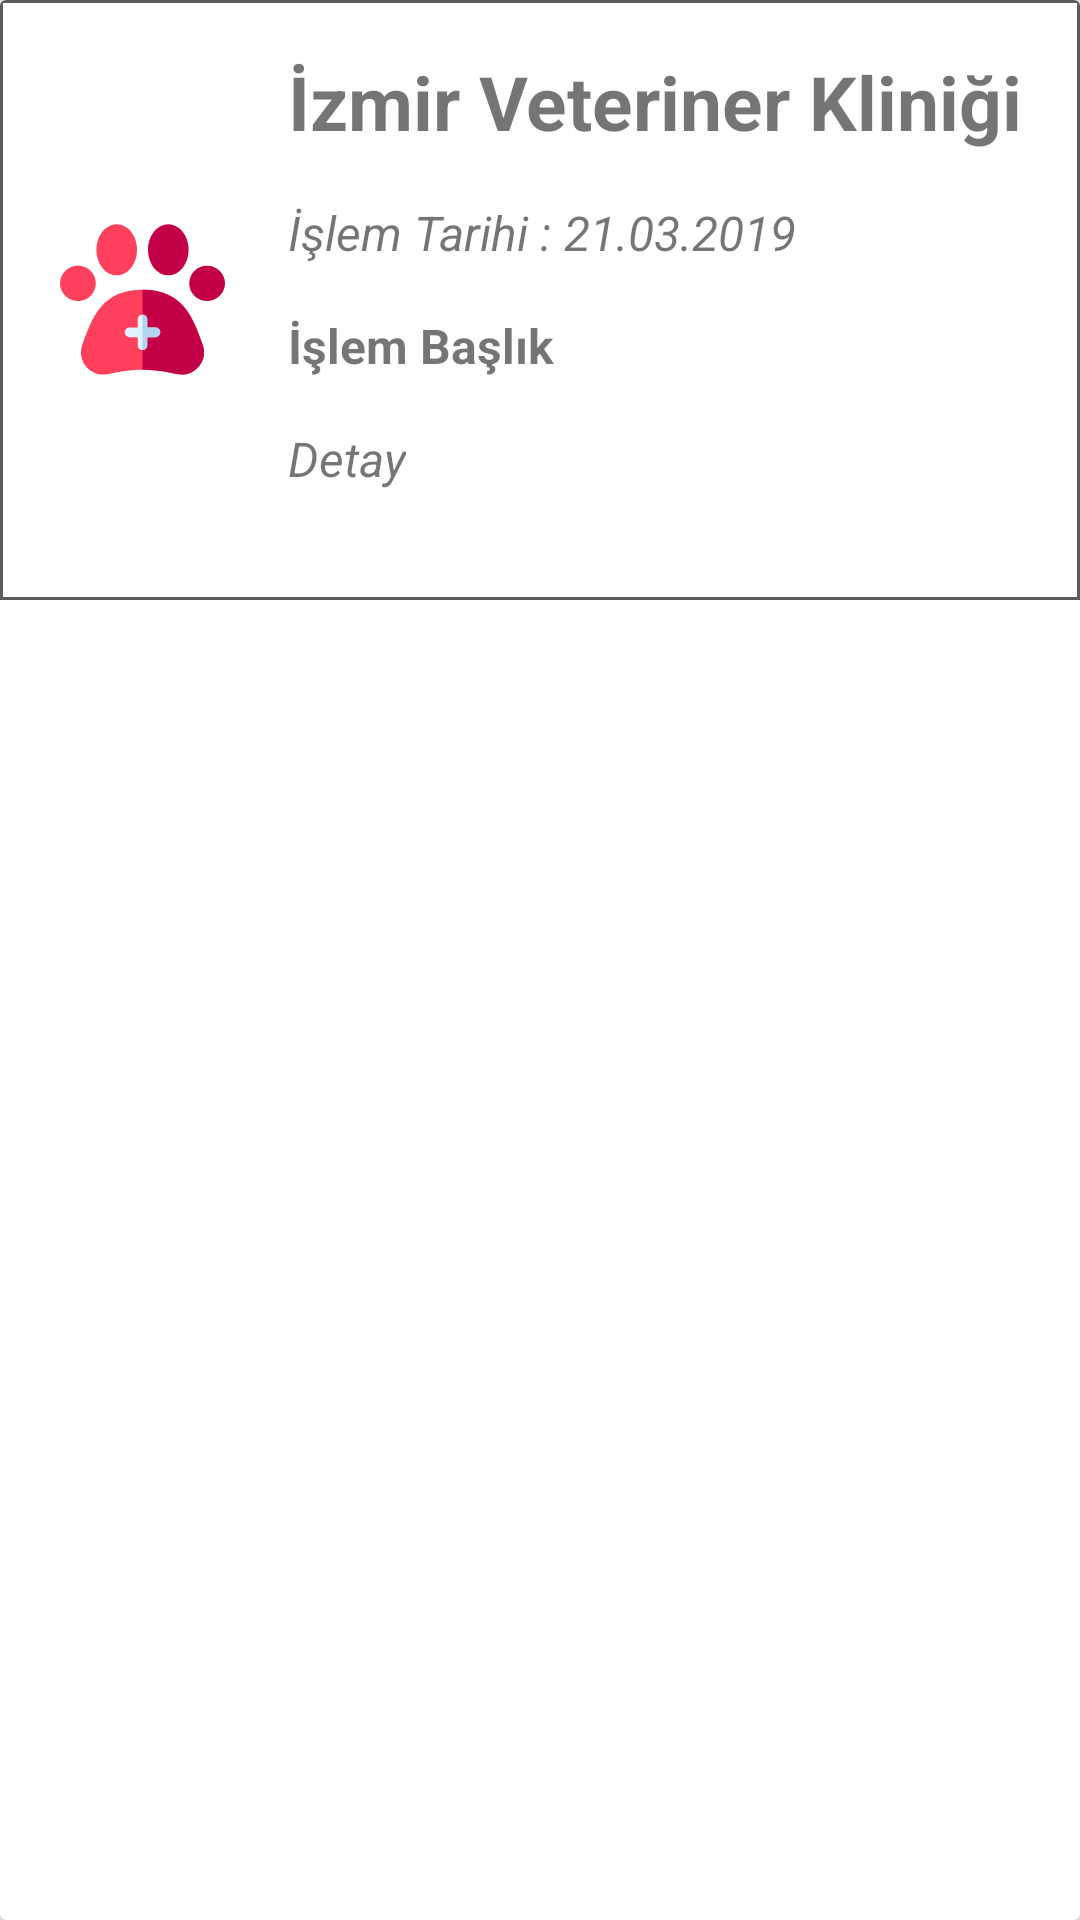

Point at icon controls on the screen. Image size 1080×1920, points as point (x, y).
saglik: point (142, 299)
